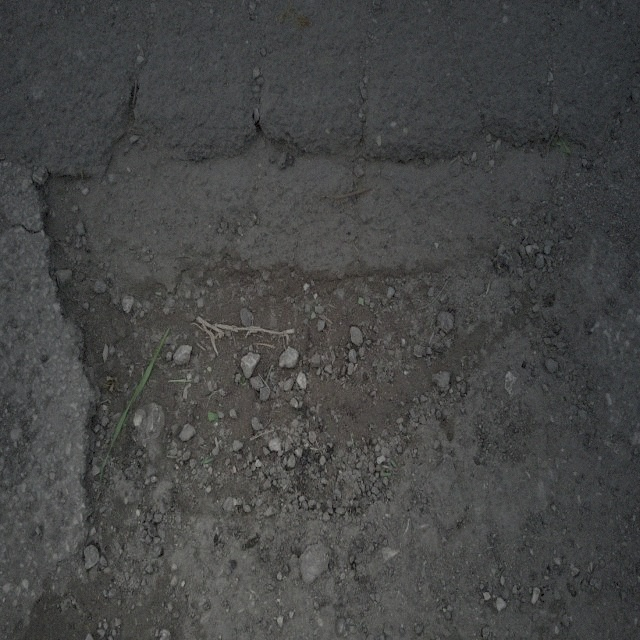pothole: (31, 91, 572, 522)
